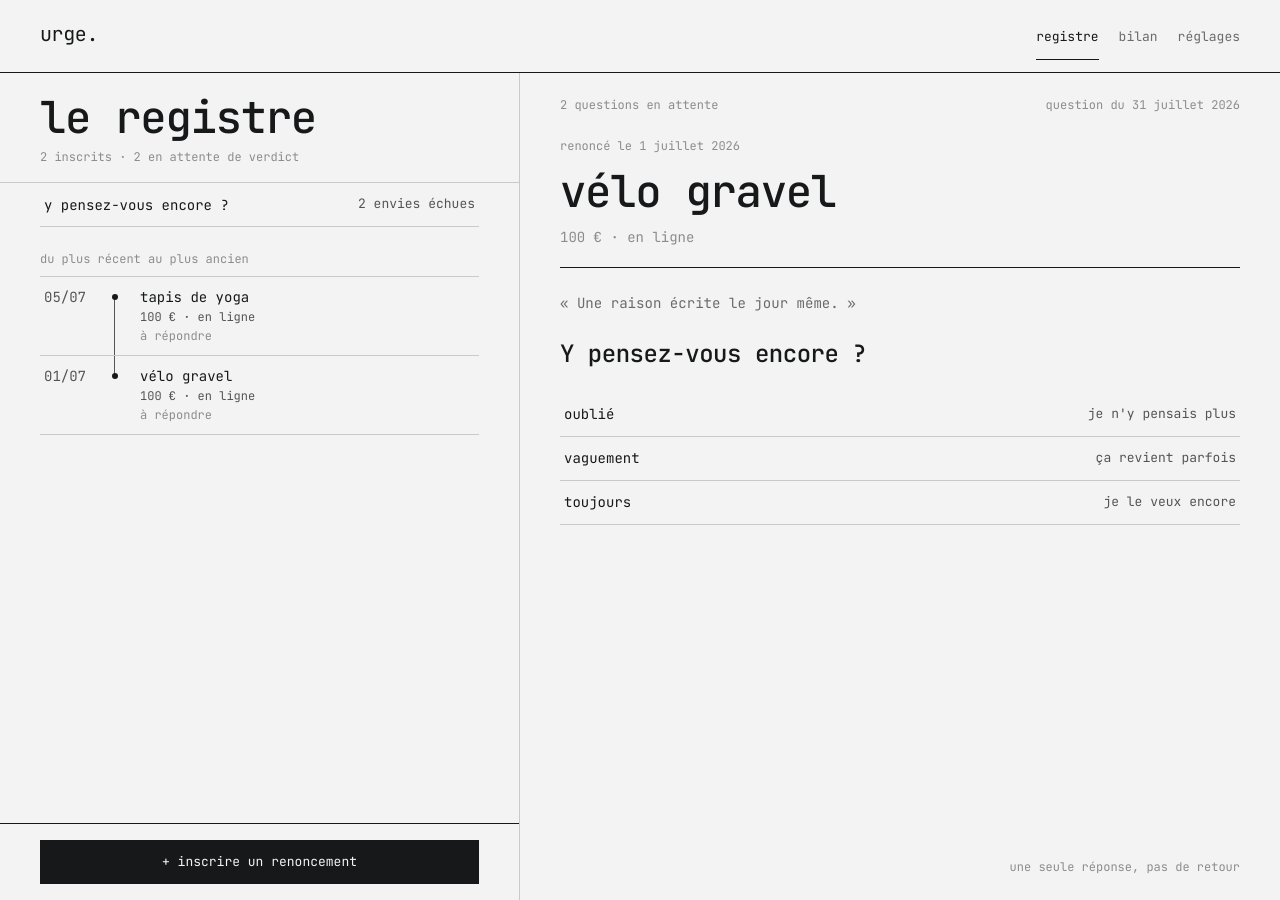
répondre › pose la question la plus ancienne d’abord, puis la suivante
Click the button "y pensez-vous encore ? 2 envies échues" at (136,205), box [40, 183, 479, 227]
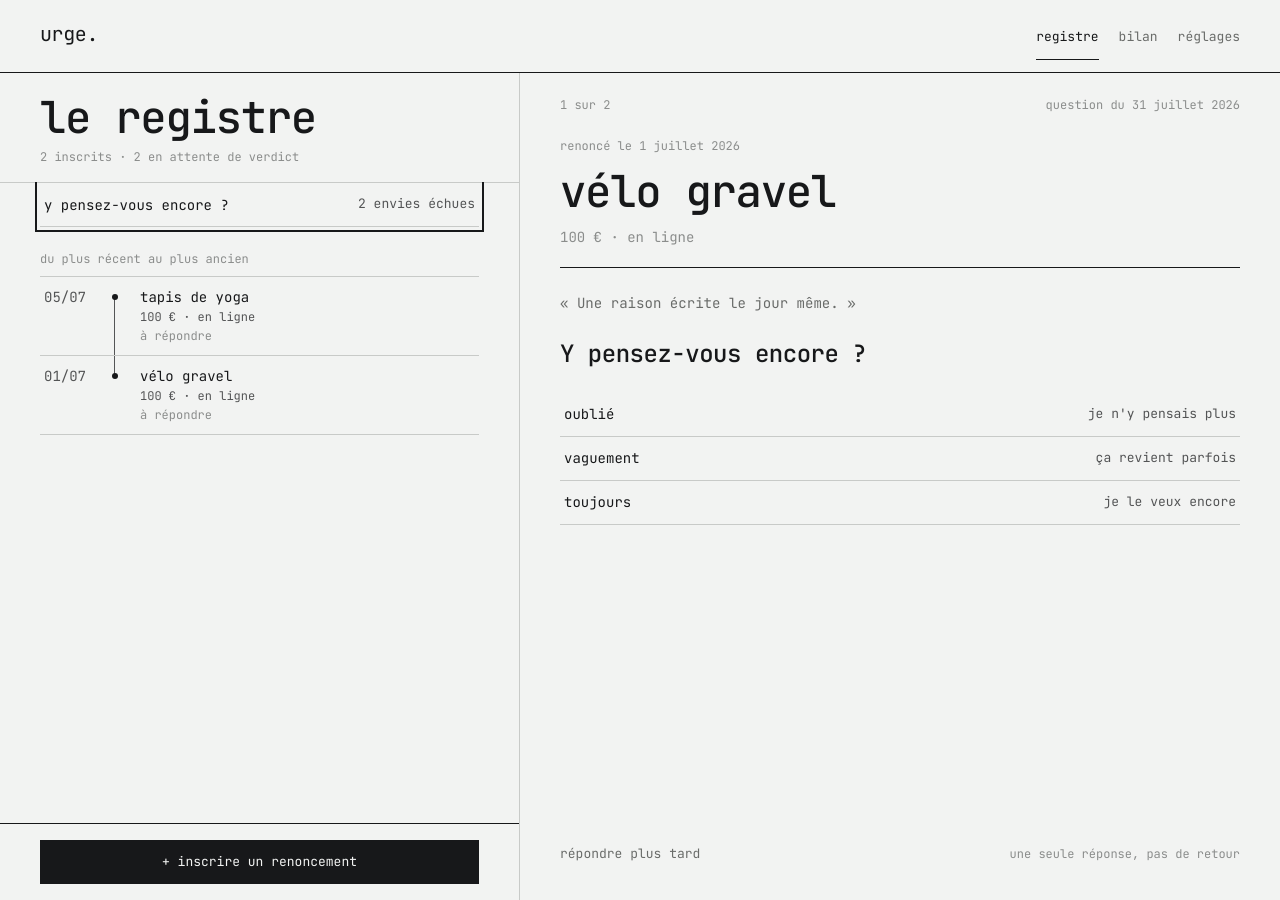
Expected: the heading "vélo gravel" is shown, [560, 162, 836, 220]
Expected: the text "1 sur 2" is shown, [560, 97, 610, 114]
Click the button with aria-label "vélo gravel : oublié" at (589,414), box [560, 393, 1240, 437]
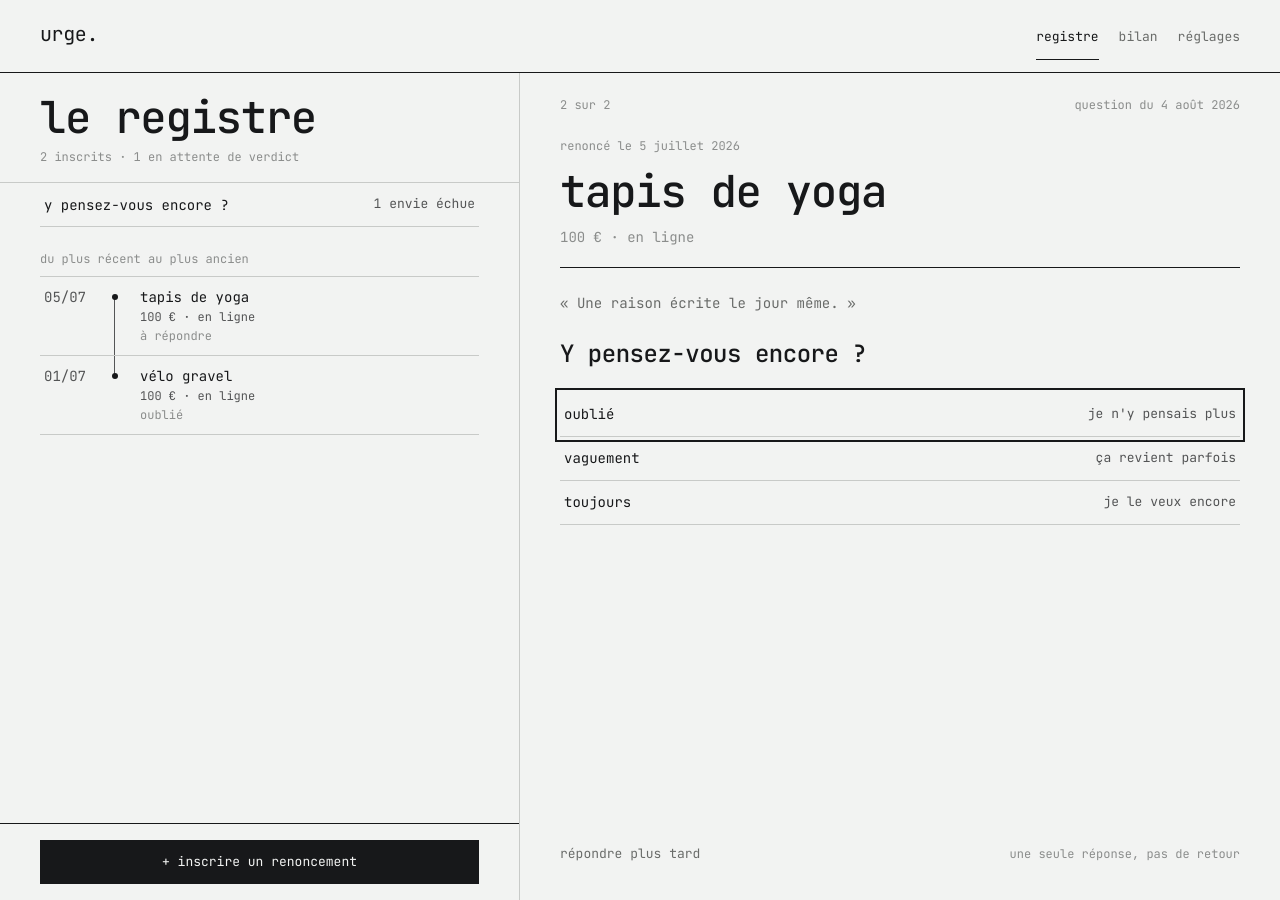
Expected: the heading "tapis de yoga" is shown, [560, 162, 886, 220]
Click the button with aria-label "tapis de yoga : toujours" at (598,502), box [560, 481, 1240, 525]
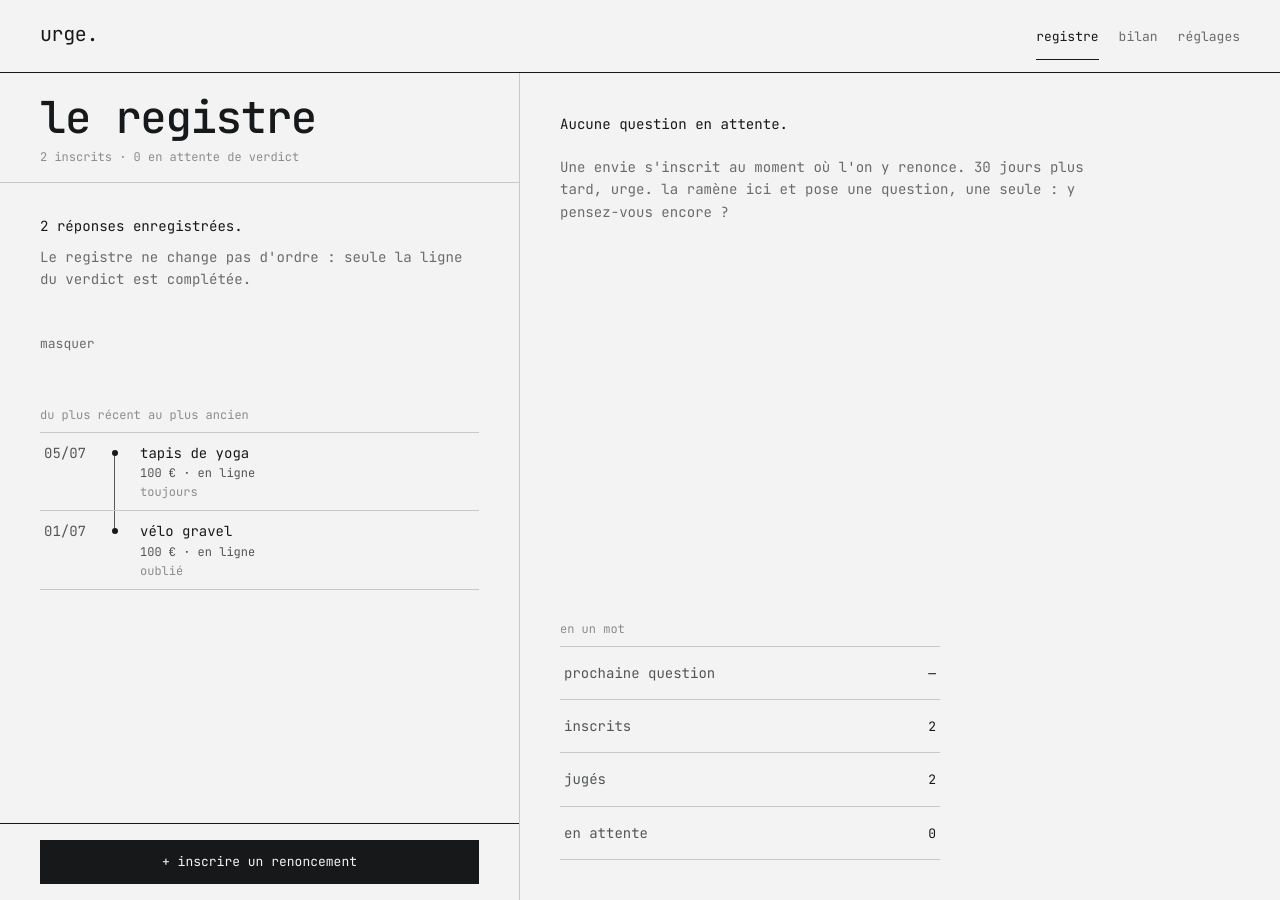
Expected: the text "2 réponses enregistrées." is shown, [40, 217, 243, 235]
